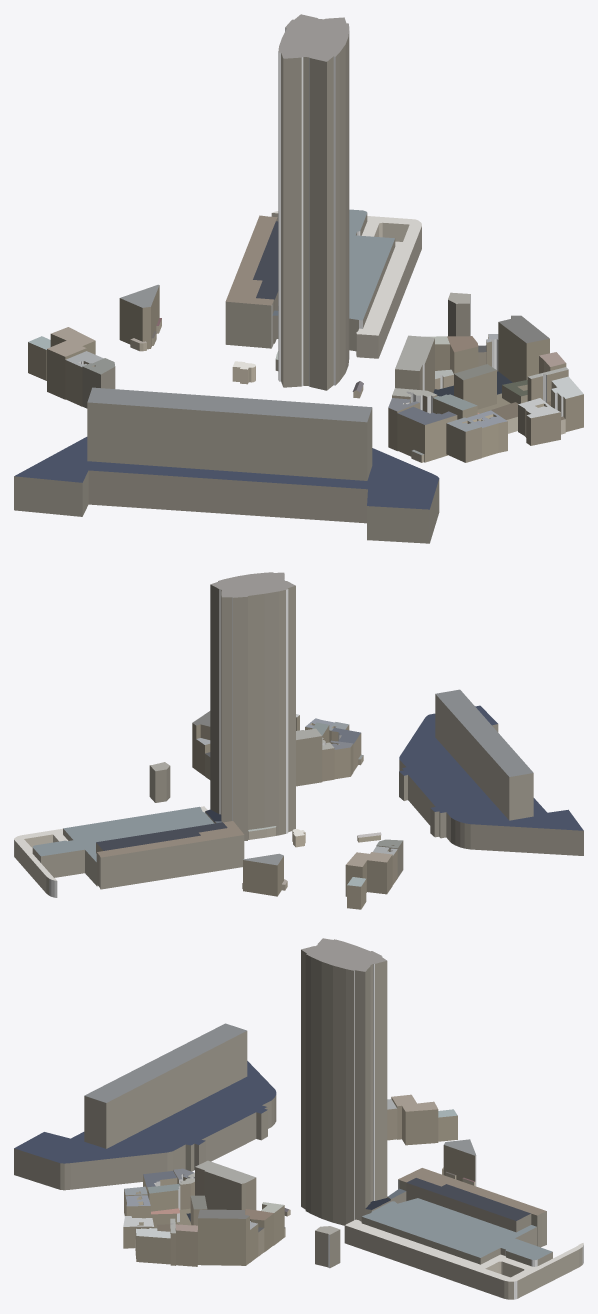
3 views of the same model, one above another, from view 1: azimuth 30°, elevation 25°; view 2: azimuth 150°, elevation 25°; view 3: azimuth 270°, elevation 25° (orthographic). The views are drawn at different scales.
Parts seen in each view (by area): view 1: tuile; view 2: tuile; view 3: tuile.
Part boxes in pixels (x1=…): tuile: x1=14, y1=14, x2=583, y2=543; tuile: x1=14, y1=572, x2=583, y2=909; tuile: x1=14, y1=938, x2=583, y2=1299.
Size of the model in its own units: 392 by 215 by 422.
